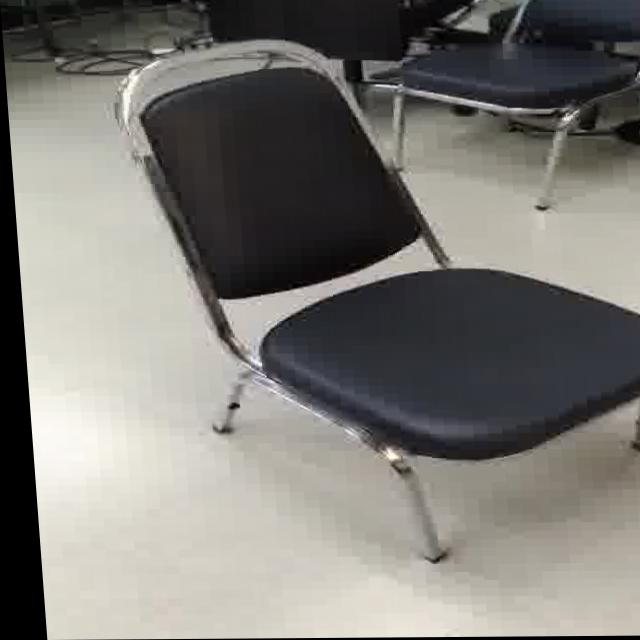chair: (87, 29, 640, 580)
